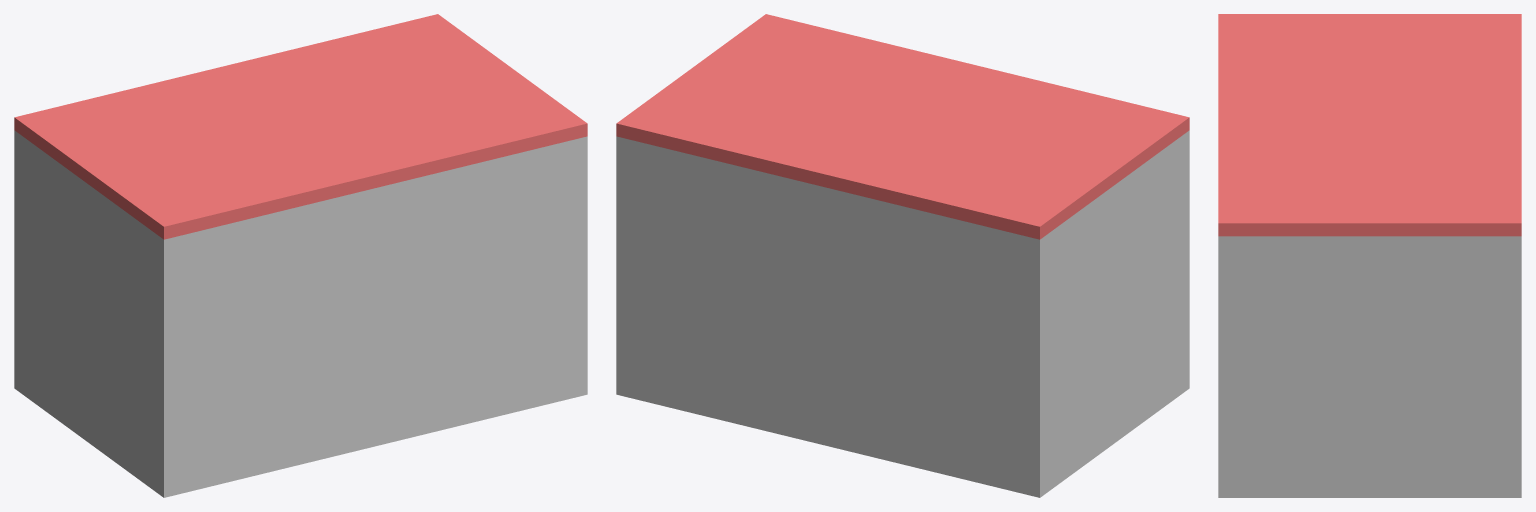
The model's file is 2storey.glb.
3 views of the same model, side by side, from view 1: azimuth 30°, elevation 25°; view 2: azimuth 150°, elevation 25°; view 3: azimuth 270°, elevation 25° (orthographic).
Parts seen in each view (by area): view 1: Z_UP; view 2: Z_UP; view 3: Z_UP.
Part boxes in pixels (x1,y1,x2,y2): Z_UP: (14, 14, 587, 497); Z_UP: (616, 14, 1189, 497); Z_UP: (1218, 14, 1521, 497).
Size of the model in its own units: 1030 by 630 by 630.
